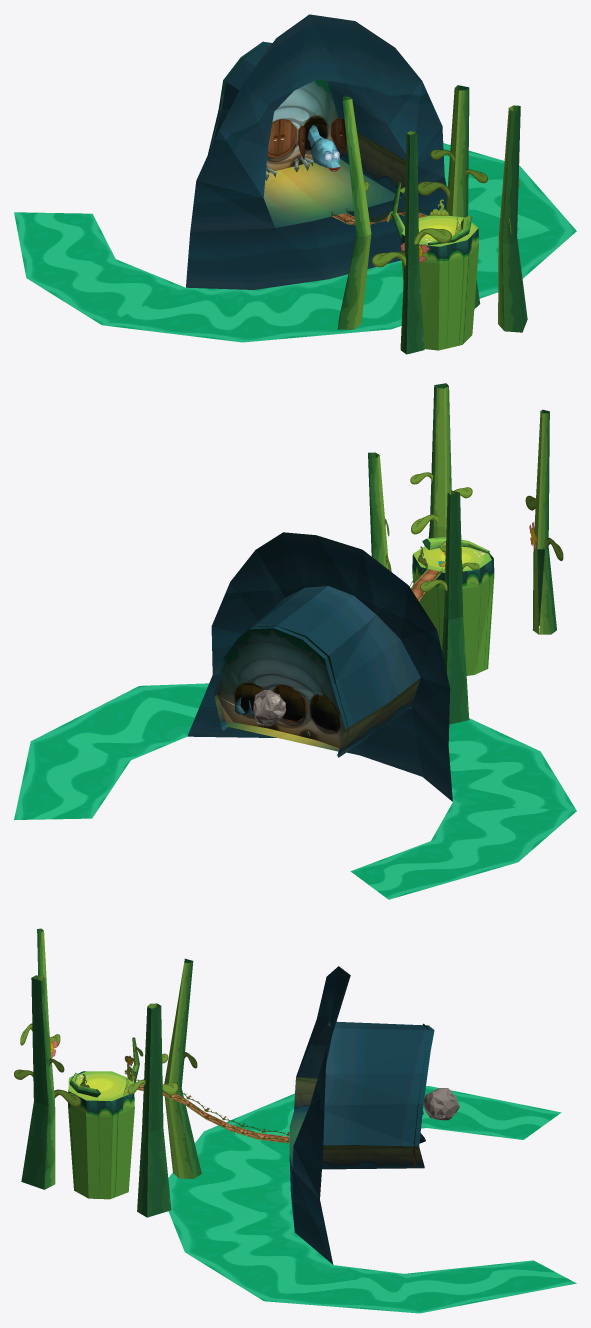
File: skybean_level04.glb
3 views of the same model, one above another, from view 1: azimuth 30°, elevation 25°; view 2: azimuth 150°, elevation 25°; view 3: azimuth 270°, elevation 25° (orthographic). The views are drawn at different scales.
Parts seen in each view (by area): view 1: 001_node02_ground_00_p48, 002_node_river_00_p46, 043_node01_platform_00_p5, 043_node01_platform_01_p4, 009_strafeground_00_p39, 000_etana_static_00_p50, 001_node02_ground_01_p47, 043_node01_platform_02_p3, 019_snail_00_p29, 006_snail_hatch02_02_00_p42; view 2: 001_node02_ground_00_p48, 002_node_river_00_p46, 043_node01_platform_00_p5, 000_etana_static_00_p50, 043_node01_platform_01_p4, 001_node02_ground_01_p47, 043_node01_platform_02_p3, 017_rock_00_p31, 009_strafeground_00_p39; view 3: 002_node_river_00_p46, 001_node02_ground_00_p48, 043_node01_platform_00_p5, 043_node01_platform_01_p4, 001_node02_ground_01_p47, 043_node01_platform_02_p3, 017_rock_00_p31, 045_node_bridge_01_p0, 045_node_bridge_00_p1.
Part boxes in pixels (left/top/right/bottom): 001_node02_ground_00_p48: left=186, top=14, right=446, bottom=289; 002_node_river_00_p46: left=14, top=143, right=576, bottom=342; 043_node01_platform_00_p5: left=337, top=85, right=527, bottom=354; 043_node01_platform_01_p4: left=401, top=228, right=479, bottom=350; 009_strafeground_00_p39: left=263, top=158, right=401, bottom=227; 000_etana_static_00_p50: left=210, top=43, right=338, bottom=172; 001_node02_ground_01_p47: left=334, top=132, right=405, bottom=197; 043_node01_platform_02_p3: left=402, top=215, right=478, bottom=246; 019_snail_00_p29: left=307, top=125, right=340, bottom=171; 006_snail_hatch02_02_00_p42: left=277, top=119, right=296, bottom=158; 001_node02_ground_00_p48: left=187, top=532, right=452, bottom=801; 002_node_river_00_p46: left=14, top=683, right=576, bottom=899; 043_node01_platform_00_p5: left=368, top=383, right=556, bottom=724; 000_etana_static_00_p50: left=214, top=625, right=348, bottom=751; 043_node01_platform_01_p4: left=412, top=553, right=494, bottom=675; 001_node02_ground_01_p47: left=214, top=678, right=420, bottom=755; 043_node01_platform_02_p3: left=413, top=546, right=491, bottom=572; 017_rock_00_p31: left=253, top=690, right=285, bottom=726; 009_strafeground_00_p39: left=224, top=706, right=411, bottom=752; 002_node_river_00_p46: left=168, top=1086, right=576, bottom=1313; 001_node02_ground_00_p48: left=289, top=966, right=434, bottom=1264; 043_node01_platform_00_p5: left=21, top=928, right=201, bottom=1217; 043_node01_platform_01_p4: left=68, top=1071, right=134, bottom=1199; 001_node02_ground_01_p47: left=294, top=1077, right=424, bottom=1168; 043_node01_platform_02_p3: left=68, top=1071, right=133, bottom=1101; 017_rock_00_p31: left=423, top=1088, right=459, bottom=1120; 045_node_bridge_01_p0: left=134, top=1082, right=289, bottom=1143; 045_node_bridge_00_p1: left=134, top=1078, right=289, bottom=1142.
Size of what is drawn, in the model's own units: 8.85 by 4.46 by 9.36.
21 materials, 21 textured.
